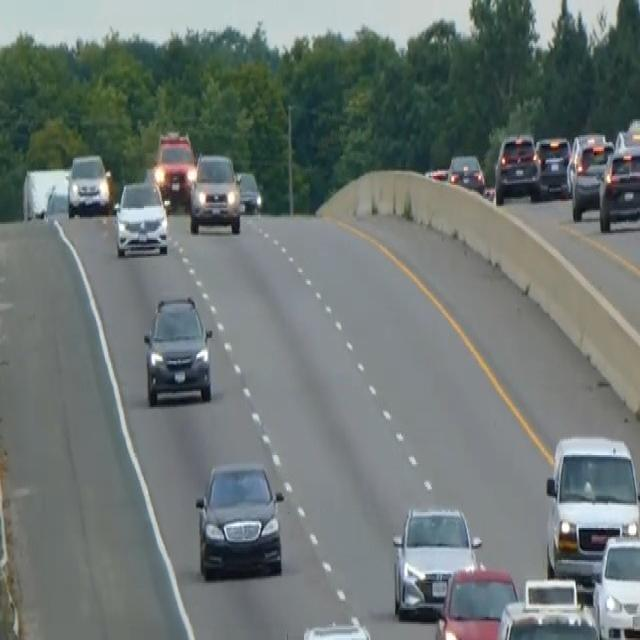car: (194, 458, 284, 580), (391, 503, 481, 619), (142, 292, 213, 406), (495, 576, 601, 638), (434, 562, 518, 638), (592, 532, 639, 638), (188, 149, 242, 235), (113, 178, 168, 258), (598, 142, 639, 231), (570, 137, 613, 220), (493, 132, 540, 204), (297, 598, 378, 638), (66, 151, 110, 217), (565, 130, 605, 196), (535, 134, 571, 198), (446, 151, 485, 194), (300, 617, 374, 638), (235, 167, 261, 215)
jeep: (152, 128, 196, 208)
minivan: (544, 432, 639, 583)
